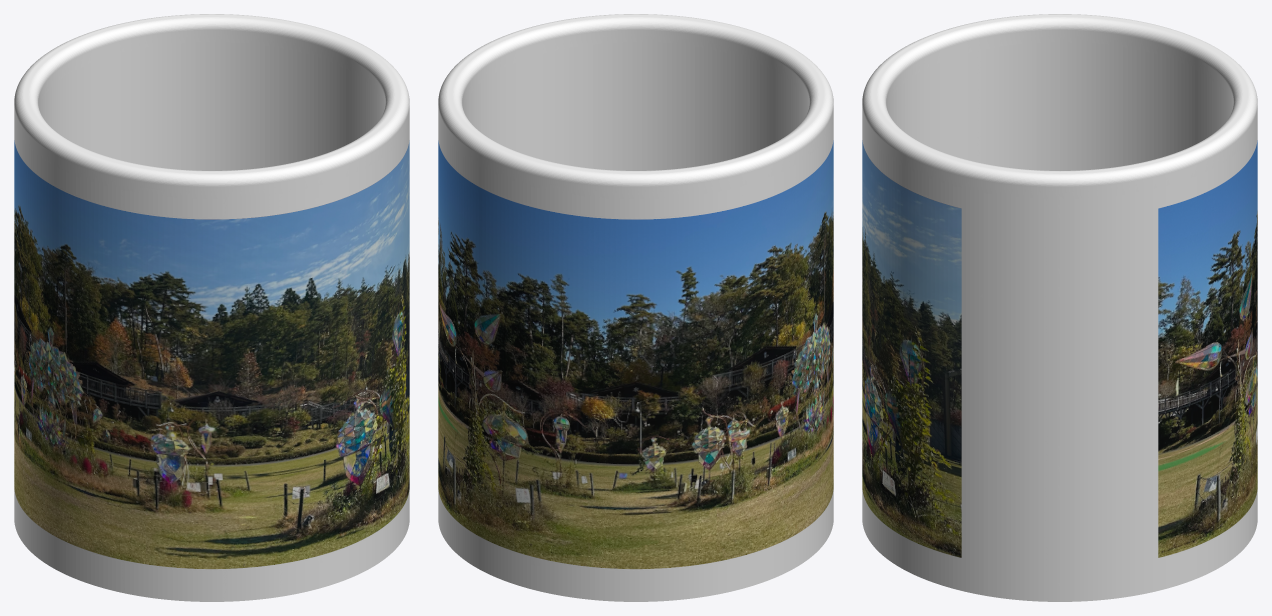
3 renders of one model, left to right at view 1: azimuth 30°, elevation 25°; view 2: azimuth 150°, elevation 25°; view 3: azimuth 270°, elevation 25°, orthographic.
Visible parts, largest first — view 1: base; view 2: base; view 3: base.
Part boxes in pixels (bbox=[...]): base: bbox=[14, 14, 409, 601]; base: bbox=[438, 14, 833, 601]; base: bbox=[862, 14, 1257, 601].
Bounding box in the file's own units: 82 × 97 × 82.
Materials: 1 (1 with a texture image).
